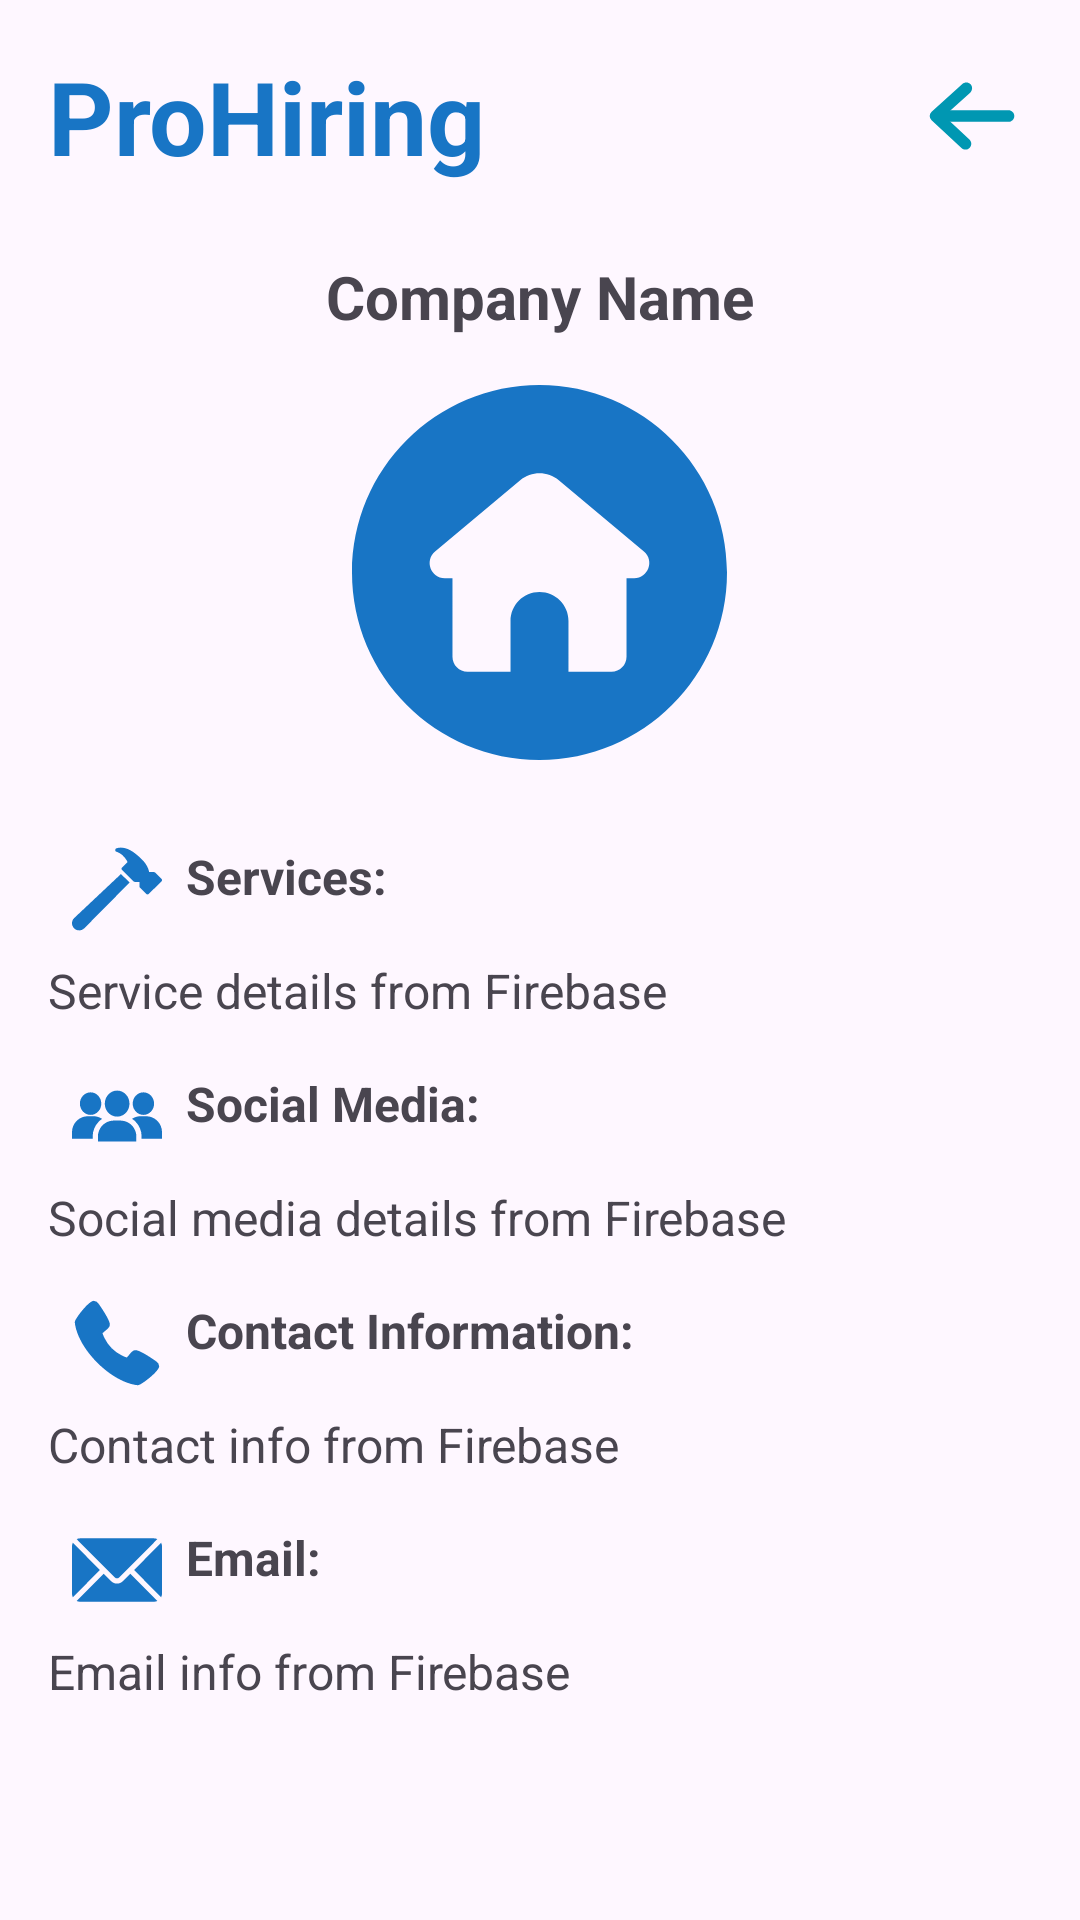

Icon bounding boxes for this 1080 × 1920 phone screenshot, format {"left": x1, "top": y1, "right": x2, "bottom": y2}:
audience: {"left": 72, "top": 1090, "right": 162, "bottom": 1142}
hammerblue: {"left": 72, "top": 847, "right": 162, "bottom": 931}
phone call: {"left": 74, "top": 1300, "right": 160, "bottom": 1386}
